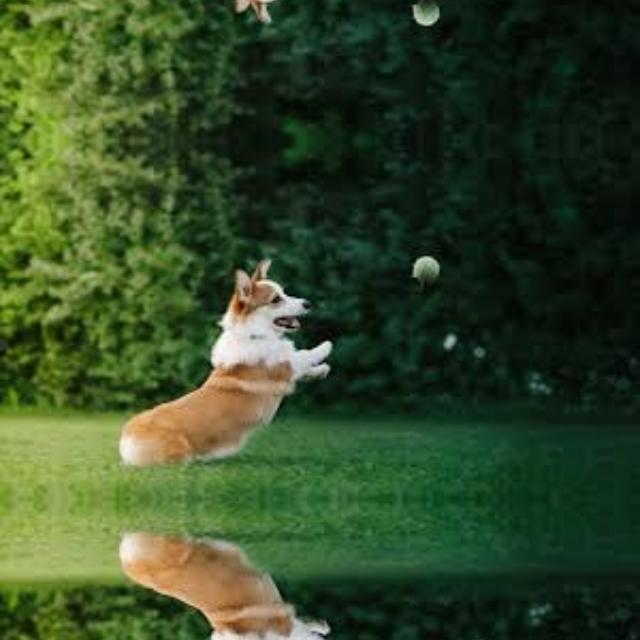dog: (114, 241, 352, 497), (113, 500, 352, 640), (113, 0, 352, 39)
